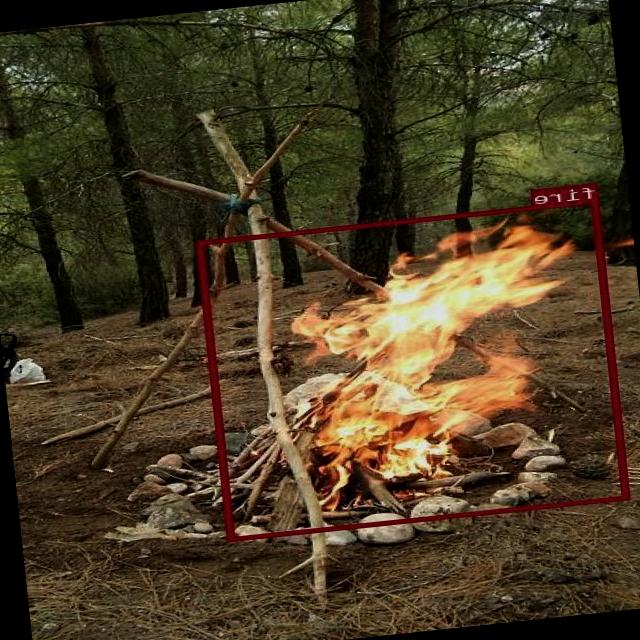fire: (198, 197, 630, 540)
